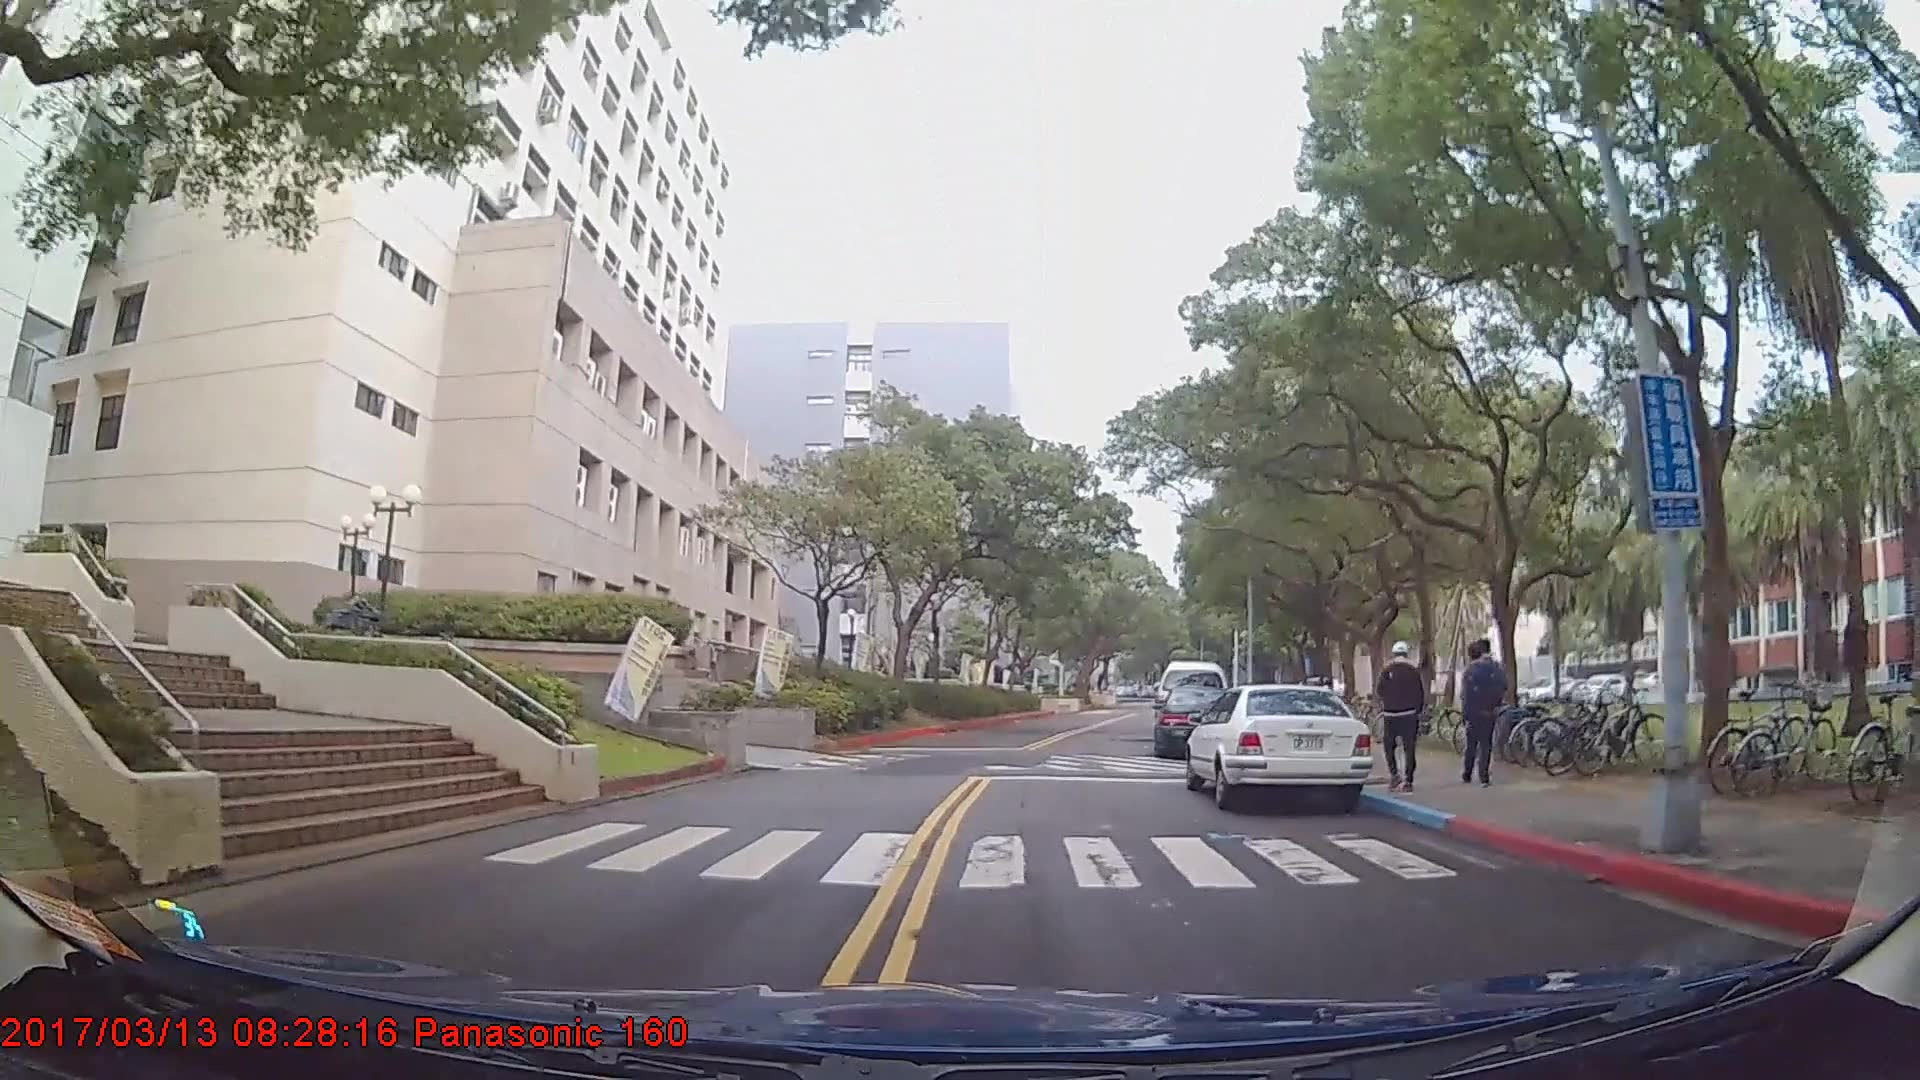pedestrian: (1457, 640, 1510, 793), (1377, 644, 1428, 796)
vehicle: (1186, 683, 1375, 811), (1153, 684, 1245, 759)
